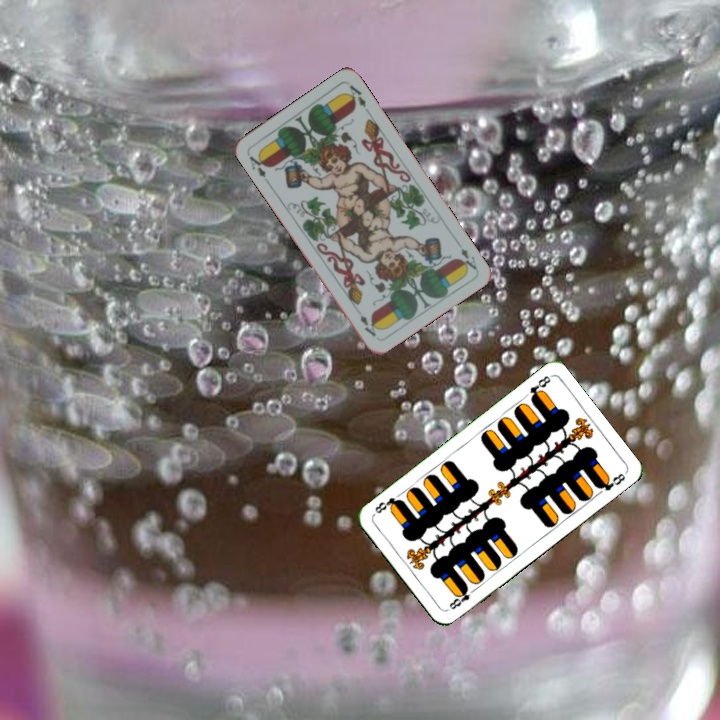E8: (519, 371, 553, 404), (444, 583, 479, 613)
EA: (452, 237, 480, 273), (245, 150, 270, 180)
